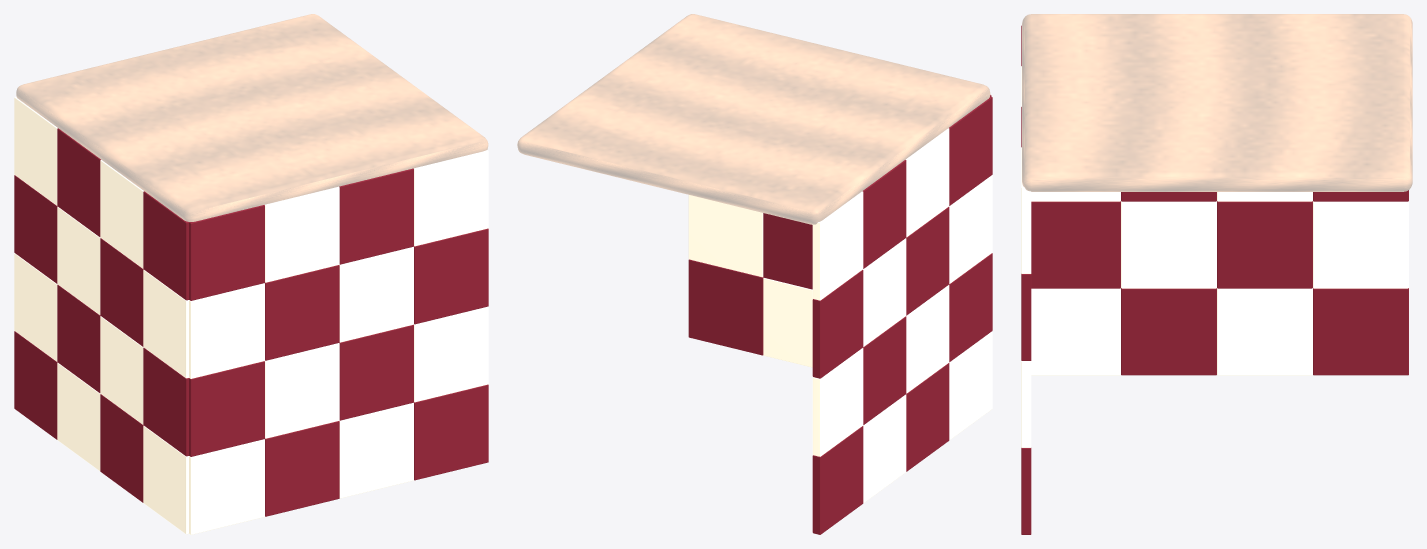
File: ref01_08.glb
3 views of the same model, side by side, from view 1: azimuth 30°, elevation 25°; view 2: azimuth 150°, elevation 25°; view 3: azimuth 270°, elevation 25° (orthographic). The views are drawn at different scales.
Parts seen in each view (by area): view 1: ref01_08; view 2: ref01_08; view 3: ref01_08.
Part boxes in pixels (box(x1,y1,x2,y2)): ref01_08: box(14, 14, 488, 534); ref01_08: box(517, 14, 992, 534); ref01_08: box(1021, 14, 1412, 534).
Size of the model in its own units: 0.461 by 0.469 by 0.461.
3 materials, 1 textured.
